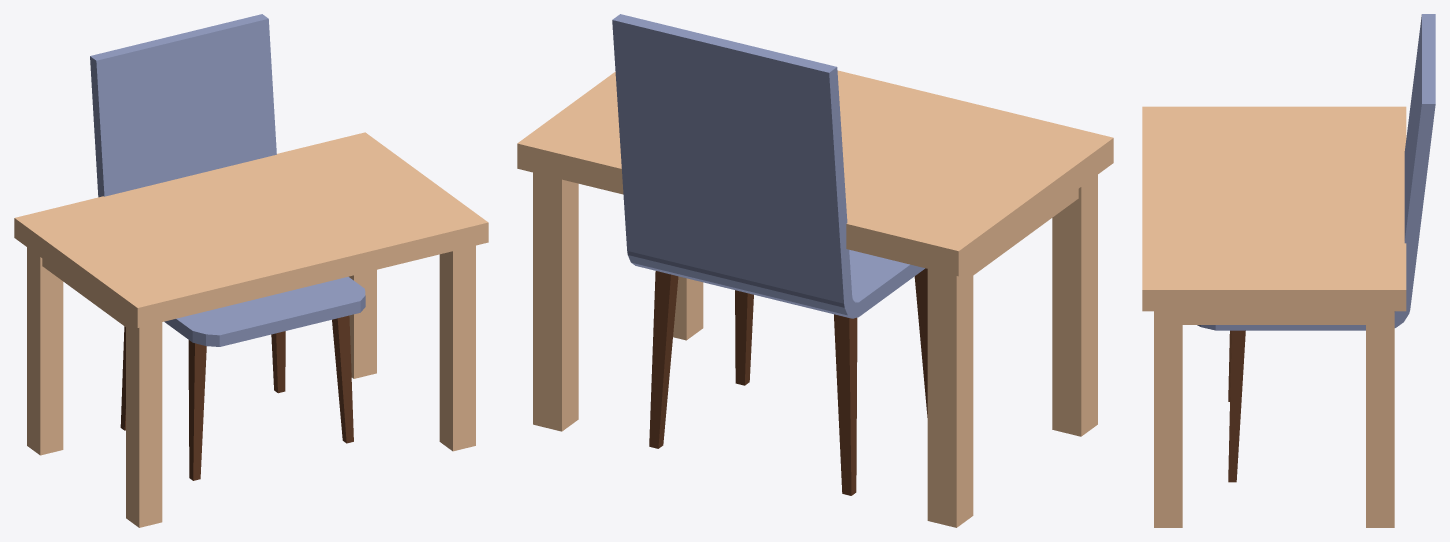
The model's file is banghe.fbx.
3 renders of one model, left to right at view 1: azimuth 30°, elevation 25°; view 2: azimuth 150°, elevation 25°; view 3: azimuth 270°, elevation 25°, orthographic. The views are drawn at different scales.
Parts seen in each view (by area): view 1: ban, ghe; view 2: ban, ghe; view 3: ban, ghe.
Boxes of the visible parts, x1=… form: ban: x1=14, y1=132, x2=488, y2=527; ghe: x1=90, y1=14, x2=365, y2=480; ban: x1=517, y1=70, x2=1113, y2=527; ghe: x1=612, y1=14, x2=927, y2=495; ban: x1=1142, y1=106, x2=1406, y2=527; ghe: x1=1197, y1=14, x2=1435, y2=482.
Size of the model in its own units: 56.18 by 54.41 by 37.98.
